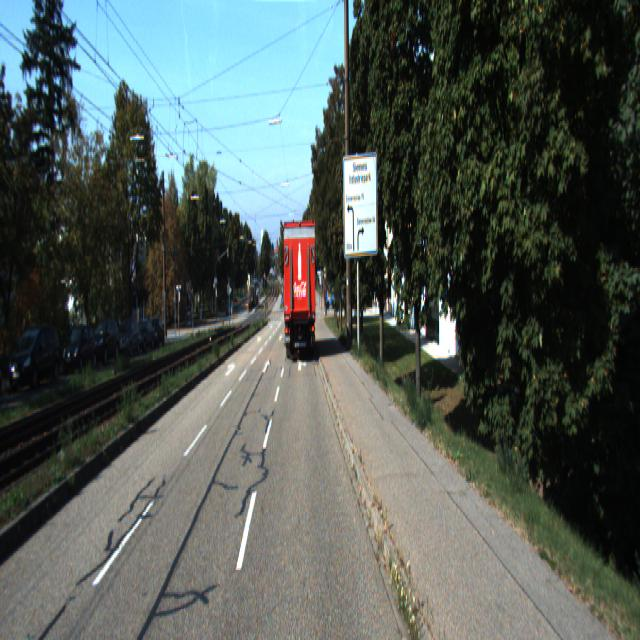Car: (280, 221, 316, 366), (8, 325, 63, 394), (62, 324, 100, 376), (87, 317, 120, 363), (115, 316, 140, 358)
